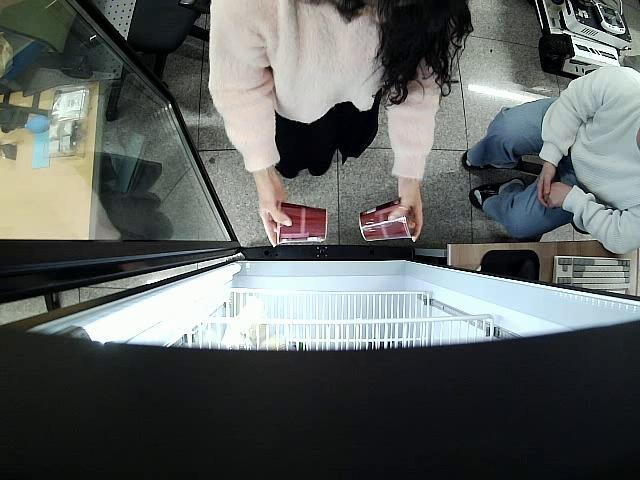06_nuguri_S: (359, 198, 416, 244), (274, 200, 328, 246)
